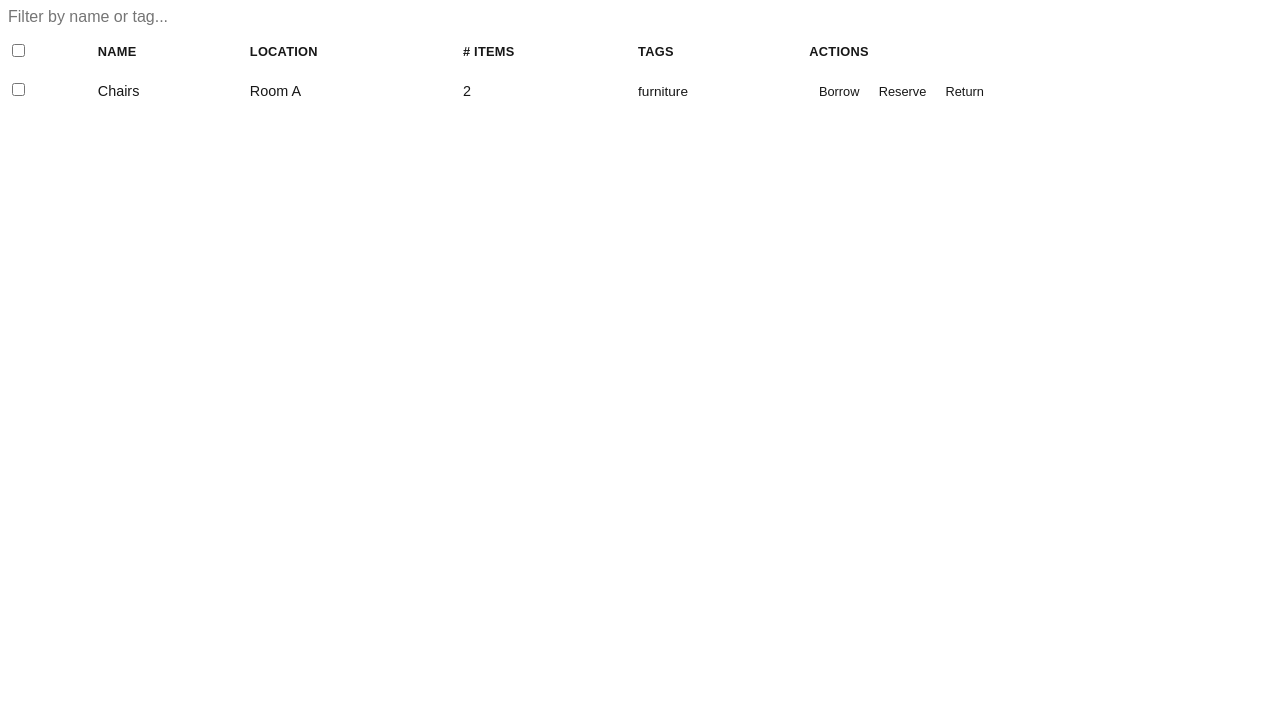
Test: clicking one-click Return opens the Return prompt for that family
Click the button with aria-label "Return Chairs".
click(965, 91)  # box [936,79,994,103]
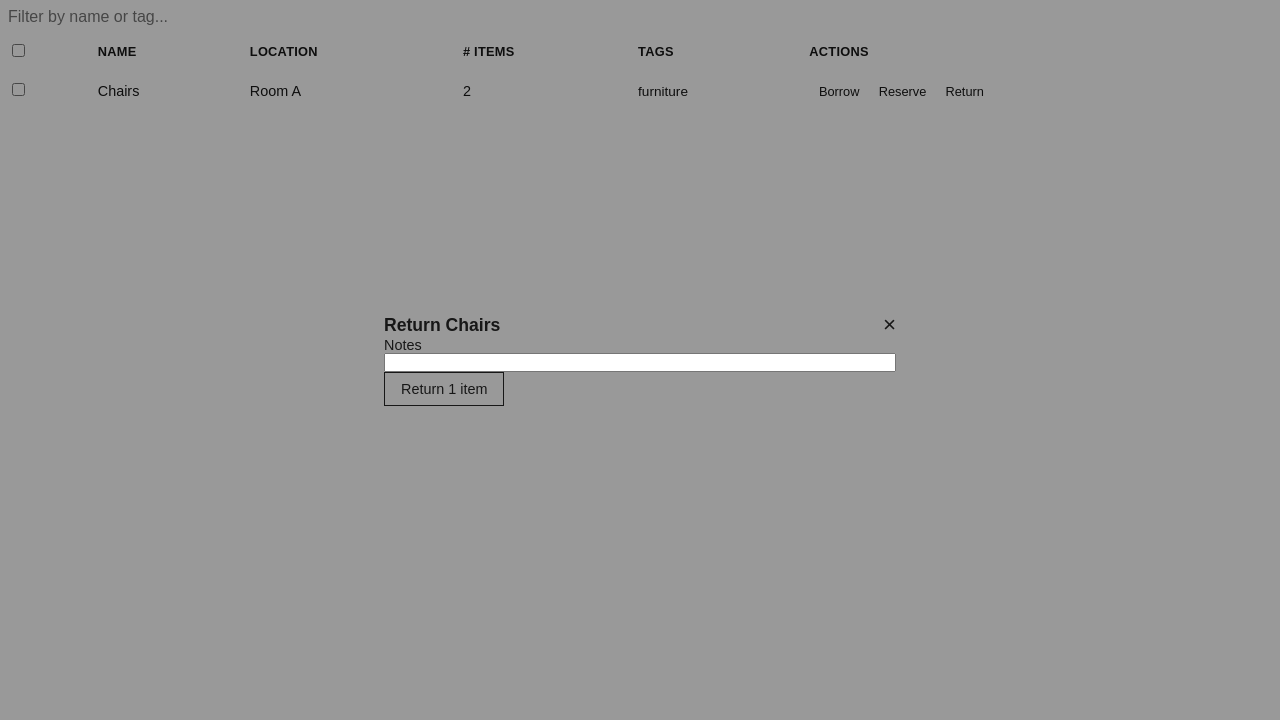
expect the dialog "Return Chairs" is shown: met, box [384,314,896,406]
